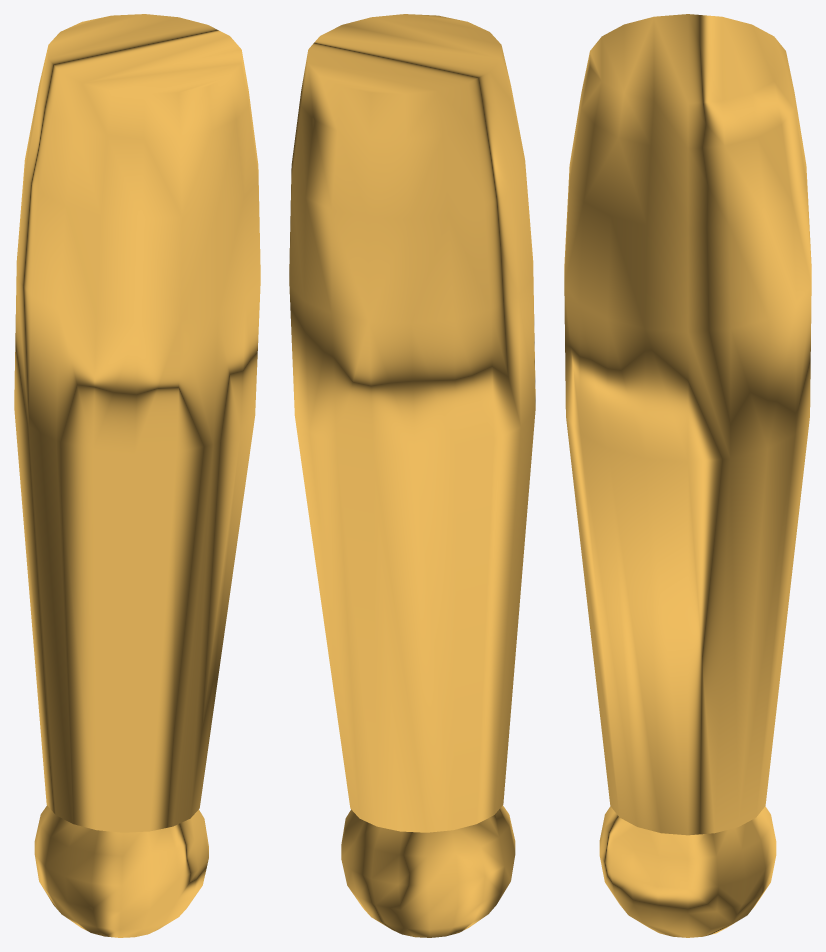
Rendered from lower_arm.dae.
3 renders of one model, left to right at view 1: azimuth 30°, elevation 25°; view 2: azimuth 150°, elevation 25°; view 3: azimuth 270°, elevation 25°, orthographic.
Visible parts, largest first — view 1: Node_000001D54C243730; view 2: Node_000001D54C243730; view 3: Node_000001D54C243730.
Part boxes in pixels (<box>): Node_000001D54C243730: <box>14,14,260,937</box>; Node_000001D54C243730: <box>289,14,535,937</box>; Node_000001D54C243730: <box>564,14,811,937</box>.
Size of the model in its own units: 0.065 by 0.2499 by 0.0633.
